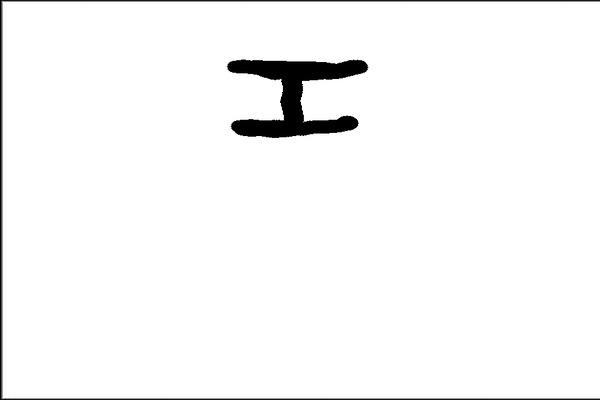i: (212, 47, 373, 150)
